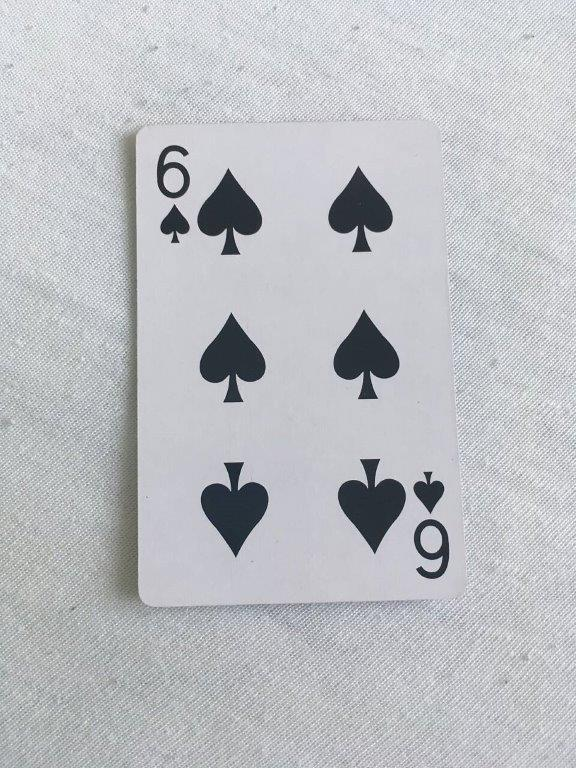6S: (132, 118, 471, 611)
